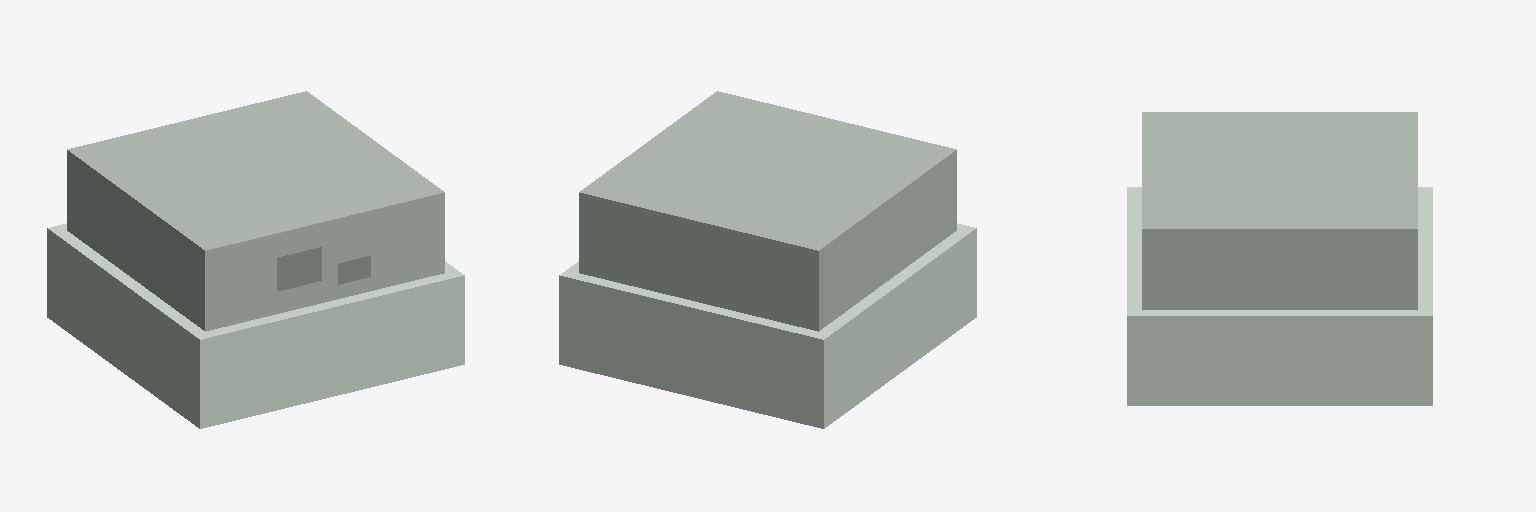
The model's file is tile_047.obj.
3 views of the same model, side by side, from view 1: azimuth 30°, elevation 25°; view 2: azimuth 150°, elevation 25°; view 3: azimuth 270°, elevation 25° (orthographic).
Visible parts, largest first — view 1: tile_047; view 2: tile_047; view 3: tile_047.
Boxes of the visible parts, <box> form: tile_047: <box>47,91,464,428</box>; tile_047: <box>559,91,976,428</box>; tile_047: <box>1127,112,1432,405</box>.
Size of the model in its own units: 0.651 by 0.4 by 0.651.